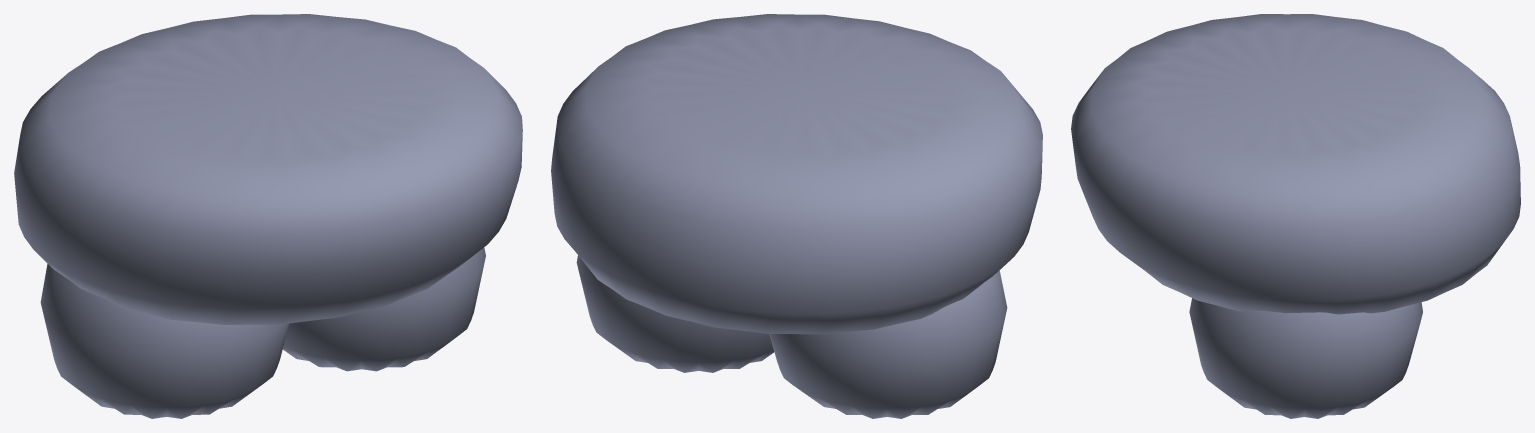
File: athletic-shorts.glb
The picture shows the model from 3 angles, left to right: view 1: azimuth 30°, elevation 25°; view 2: azimuth 150°, elevation 25°; view 3: azimuth 270°, elevation 25°; orthographic projection. The views are drawn at different scales.
Visible parts, largest first — view 1: AthleticShorts; view 2: AthleticShorts; view 3: AthleticShorts.
Boxes of the visible parts, left/top/right/bottom form: AthleticShorts: left=14, top=14, right=522, bottom=418; AthleticShorts: left=551, top=14, right=1042, bottom=418; AthleticShorts: left=1071, top=14, right=1520, bottom=418.
Size of the model in its own units: 0.2472 by 0.148 by 0.2342.
